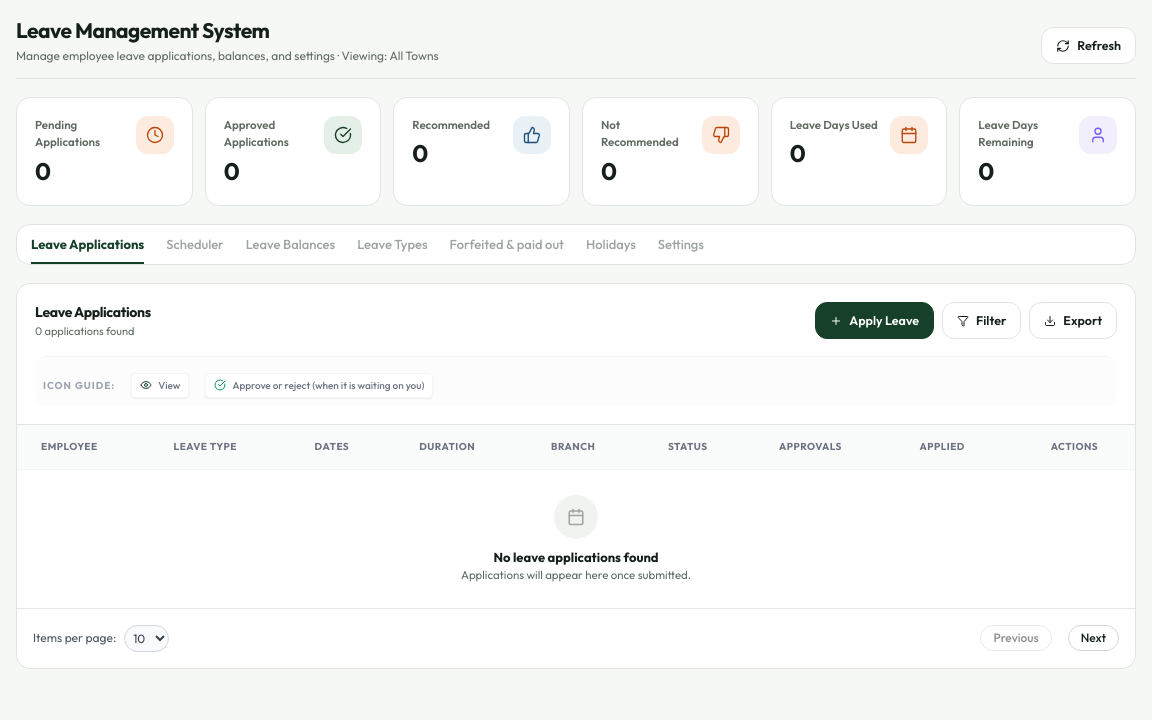
it: leave types by module (hr-admin) › managers (no hr-admin) do not
The image size is (1152, 720).
Click the button "Leave Types" at {"x": 392, "y": 249}, box [357, 234, 428, 264]
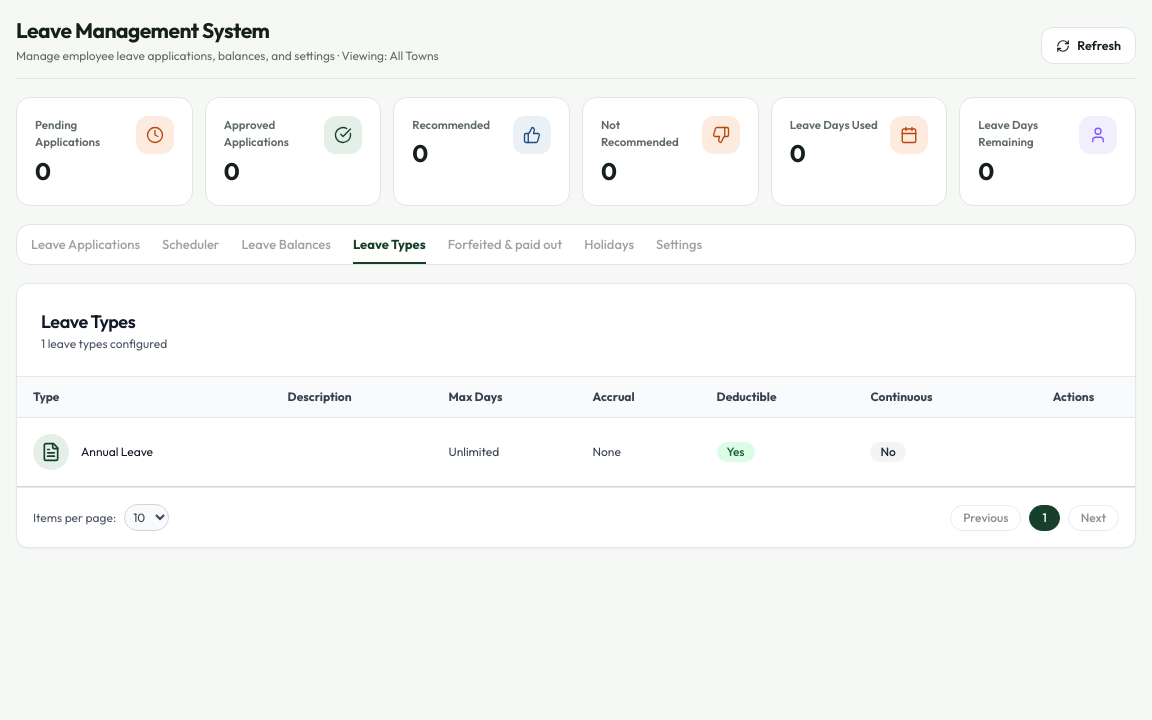
expect the text "Annual Leave" is shown: met, box [81, 444, 153, 460]
